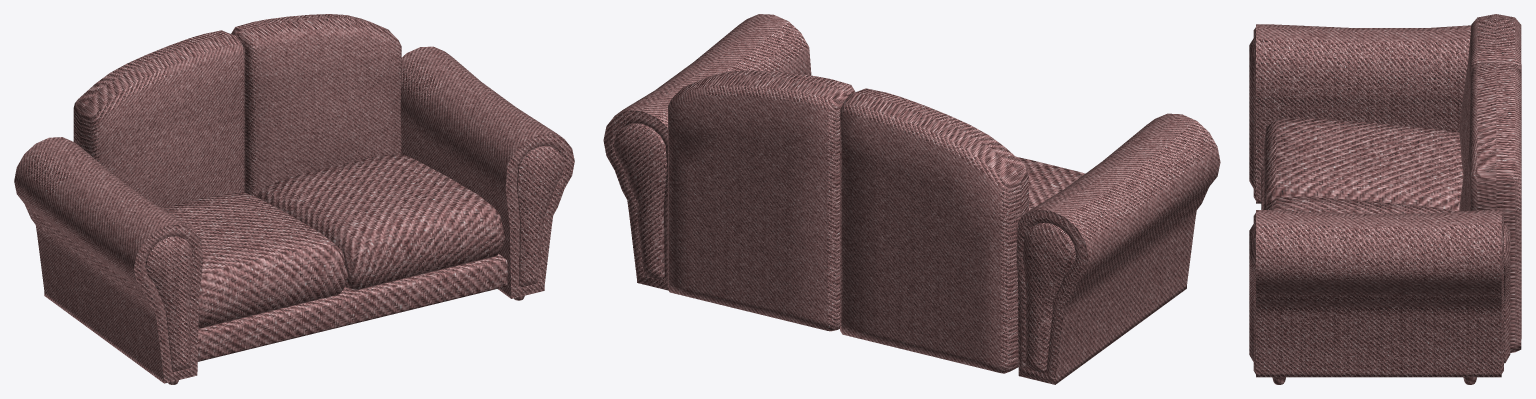
Rendered from Sofá.fbx.
3 views of the same model, side by side, from view 1: azimuth 30°, elevation 25°; view 2: azimuth 150°, elevation 25°; view 3: azimuth 270°, elevation 25° (orthographic). The views are drawn at different scales.
Visible parts, largest first — view 1: Sofa_Reposabrazos_low, Sofa_Respaldo_low, Sofa_Cojin_low, Sofa_Soporte_low; view 2: Sofa_Respaldo_low, Sofa_Reposabrazos_low, Sofa_Cojin_low; view 3: Sofa_Reposabrazos_low, Sofa_Cojin_low, Sofa_Respaldo_low.
Boxes of the visible parts, bbox=[...] form: Sofa_Reposabrazos_low: bbox=[14, 46, 574, 383]; Sofa_Respaldo_low: bbox=[73, 14, 401, 208]; Sofa_Cojin_low: bbox=[162, 154, 504, 328]; Sofa_Soporte_low: bbox=[197, 254, 507, 361]; Sofa_Respaldo_low: bbox=[668, 70, 1028, 373]; Sofa_Reposabrazos_low: bbox=[603, 14, 1220, 384]; Sofa_Cojin_low: bbox=[1016, 156, 1085, 210]; Sofa_Reposabrazos_low: bbox=[1249, 24, 1510, 377]; Sofa_Cojin_low: bbox=[1263, 118, 1463, 213]; Sofa_Respaldo_low: bbox=[1459, 14, 1521, 352].
Bounding box in the file's own units: 193 × 96.77 × 101.
